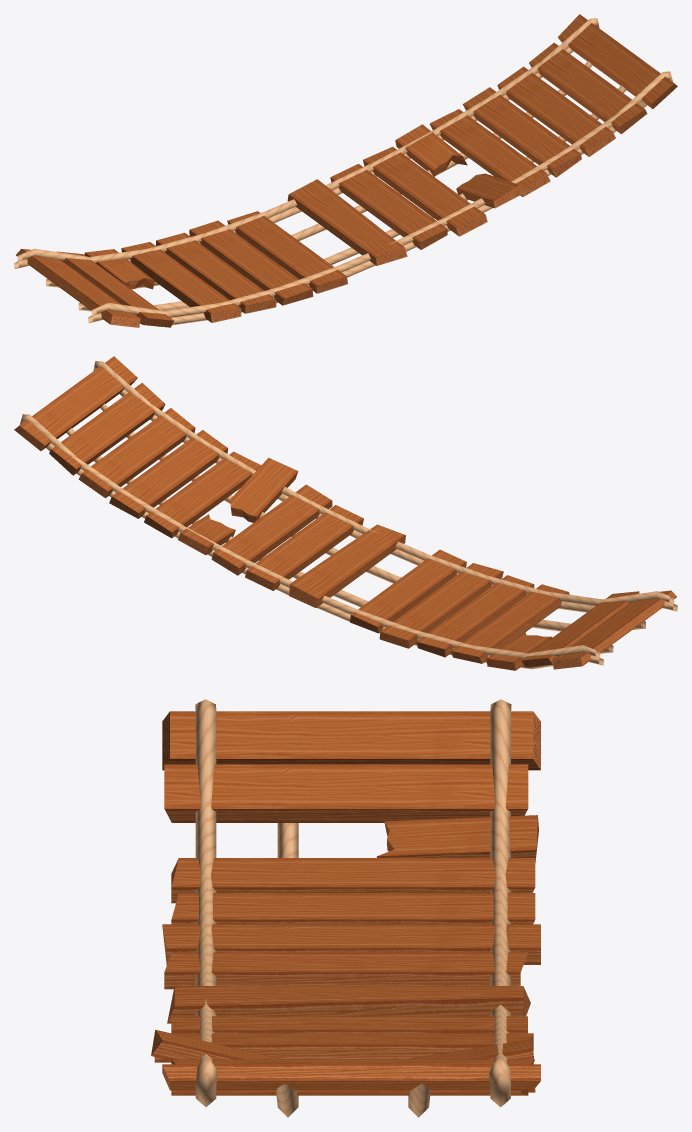
The model's file is bridge.fbx.
The picture shows the model from 3 angles, top to bottom: view 1: azimuth 30°, elevation 25°; view 2: azimuth 150°, elevation 25°; view 3: azimuth 270°, elevation 25°; orthographic projection. The views are drawn at different scales.
Parts seen in each view (by area): view 1: Cube.005; view 2: Cube.005; view 3: Cube.005.
Boxes of the visible parts, bbox=[...] form: Cube.005: bbox=[14, 14, 677, 327]; Cube.005: bbox=[14, 356, 677, 670]; Cube.005: bbox=[151, 699, 540, 1117].
Bounding box in the file's own units: 1339 × 312 × 387.
